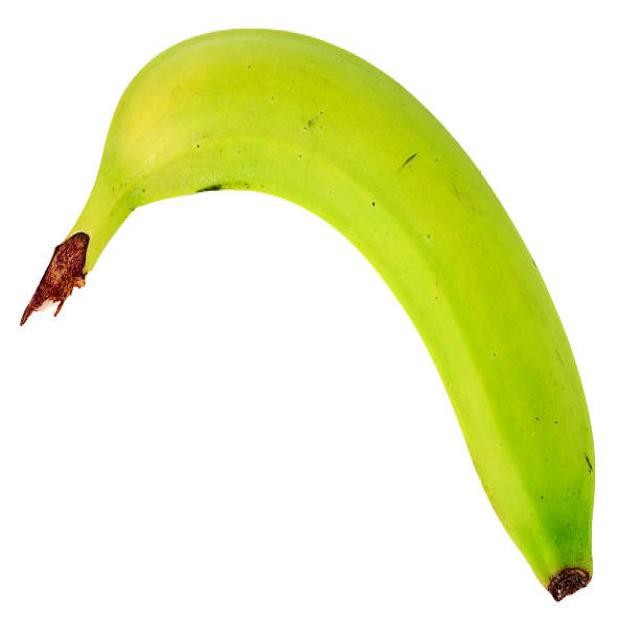banana: (25, 27, 596, 601)
